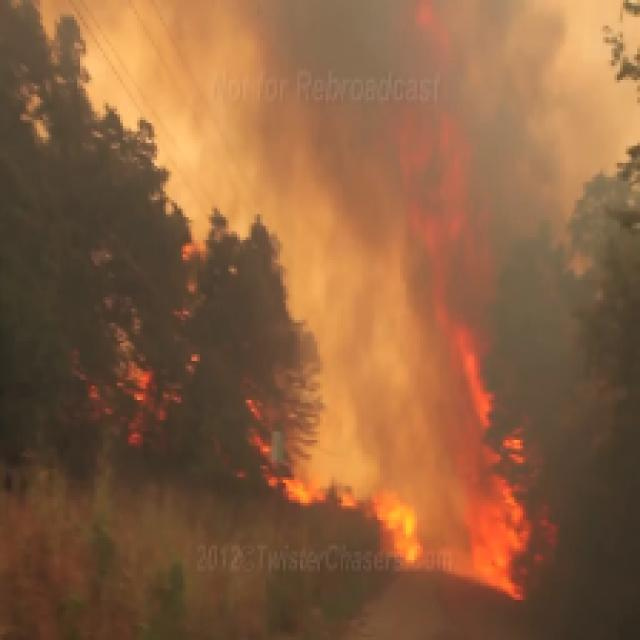Fire: (103, 182, 572, 634)
Smoke: (37, 0, 640, 251)
